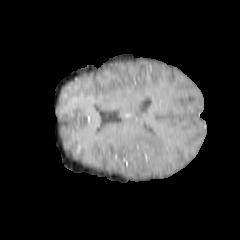glioma: (121, 126, 168, 161)
